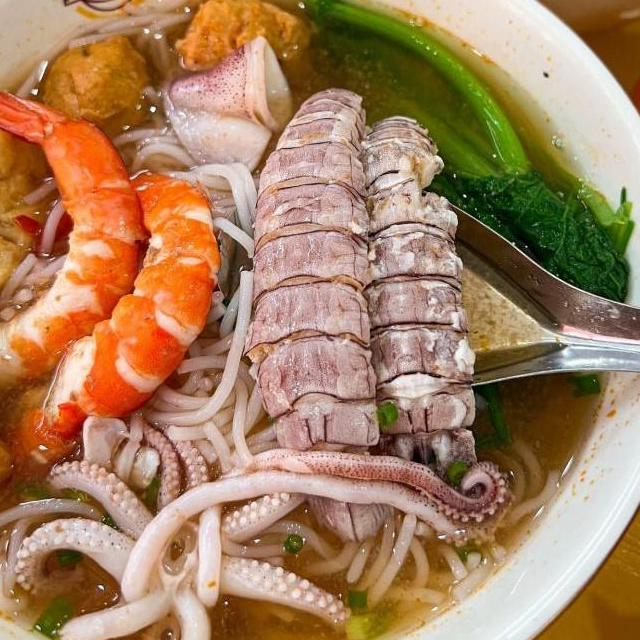bun: (140, 156, 293, 478), (211, 505, 517, 614), (50, 0, 260, 85), (0, 477, 111, 622), (0, 167, 81, 330), (100, 77, 206, 184)
bun hai san: (0, 0, 640, 640)
muc: (9, 408, 517, 640), (153, 29, 303, 186)
tom: (0, 166, 227, 486), (0, 79, 158, 406)
tom tit: (237, 82, 409, 553), (344, 109, 484, 500)
